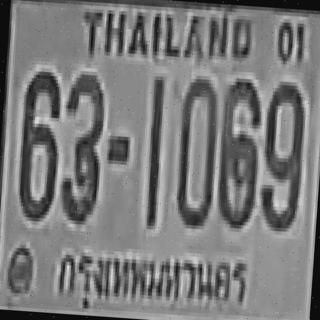N00: (173, 74, 219, 226)
N01: (142, 74, 165, 228)
N03: (58, 70, 104, 222)
N06: (14, 67, 62, 219), (215, 74, 262, 226)
N09: (257, 77, 306, 229)
P04: (48, 236, 258, 320)
